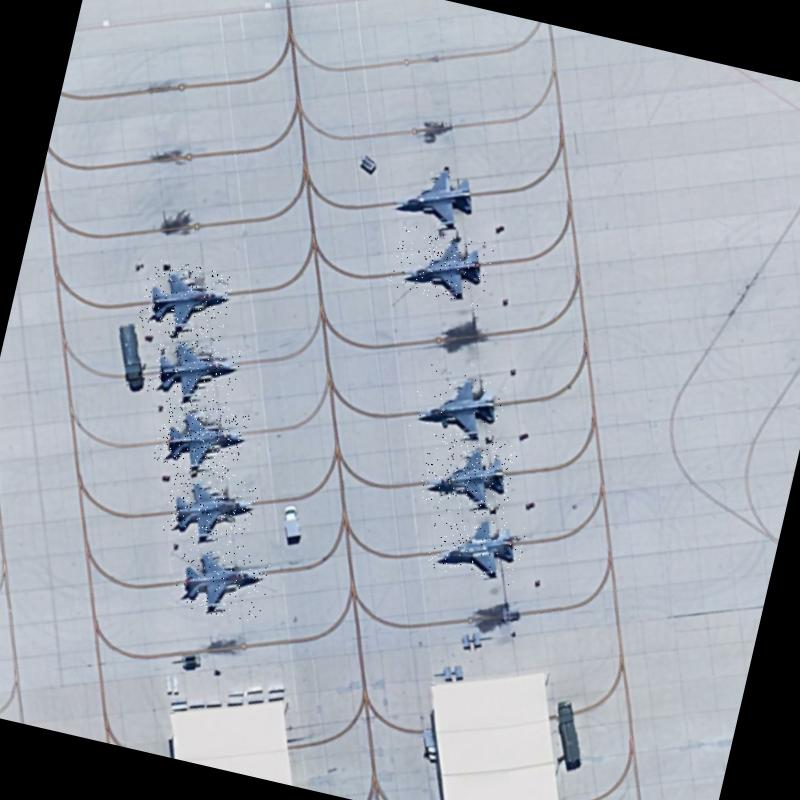A5: (381, 152, 488, 243), (416, 427, 519, 517), (388, 222, 494, 308), (423, 503, 530, 588), (136, 255, 235, 346), (170, 540, 273, 625), (408, 360, 510, 445), (161, 466, 260, 550), (152, 396, 250, 480), (146, 332, 242, 410)
